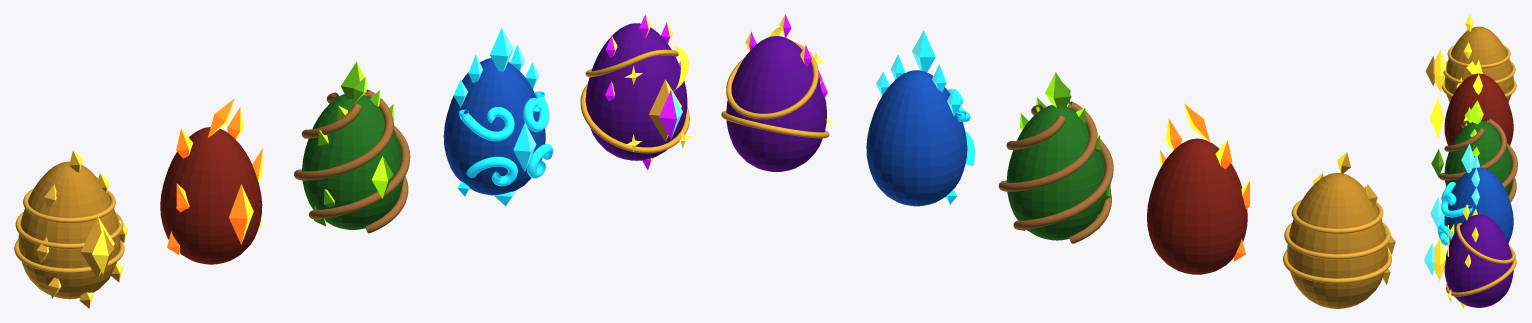
The model's file is Eggs6.fbx.
3 views of the same model, side by side, from view 1: azimuth 30°, elevation 25°; view 2: azimuth 150°, elevation 25°; view 3: azimuth 270°, elevation 25° (orthographic). The views are drawn at different scales.
Visible parts, largest first — view 1: Fire Egg, Arcane Egg, Gold Egg, Forest Egg, Ice Egg, Living spiral vine.001, Living spiral vine, Living spiral vine.002, Arcane lower orbit, Ice curled scroll, Ice curled scroll.001, Fire heart (+13 smaller); view 2: Fire Egg, Ice Egg, Arcane Egg, Gold Egg, Forest Egg, Living spiral vine, Living spiral vine.002, Living spiral vine.001, Arcane upper orbit, Gold encircling band.001, Gold encircling band, Arcane lower orbit (+3 smaller); view 3: Arcane Egg, Fire Egg, Ice Egg, Gold Egg, Forest Egg, Living spiral vine.001, Living spiral vine, Arcane lower orbit, Arcane upper orbit, Ice curled scroll.002, Gold central gemstone setting, Arcane jewel gold setting (+20 smaller).
Part boxes in pixels (x1=…): Fire Egg: x1=160, y1=127, x2=262, y2=264; Arcane Egg: x1=585, y1=23, x2=687, y2=160; Gold Egg: x1=18, y1=161, x2=120, y2=299; Forest Egg: x1=302, y1=94, x2=403, y2=229; Ice Egg: x1=443, y1=58, x2=545, y2=195; Living spiral vine.001: x1=309, y1=92, x2=410, y2=219; Living spiral vine: x1=294, y1=89, x2=393, y2=180; Living spiral vine.002: x1=301, y1=103, x2=408, y2=233; Arcane lower orbit: x1=580, y1=84, x2=689, y2=153; Ice curled scroll: x1=459, y1=107, x2=514, y2=141; Ice curled scroll.001: x1=466, y1=156, x2=517, y2=186; Fire heart: x1=229, y1=184, x2=253, y2=244; Fire Egg: x1=1147, y1=138, x2=1247, y2=274; Ice Egg: x1=866, y1=70, x2=967, y2=206; Arcane Egg: x1=726, y1=36, x2=826, y2=171; Gold Egg: x1=1287, y1=173, x2=1387, y2=308; Forest Egg: x1=1006, y1=105, x2=1106, y2=240; Living spiral vine: x1=1013, y1=104, x2=1113, y2=230; Living spiral vine.002: x1=998, y1=101, x2=1097, y2=191; Living spiral vine.001: x1=1006, y1=115, x2=1111, y2=243; Arcane upper orbit: x1=726, y1=41, x2=818, y2=119; Gold encircling band.001: x1=1284, y1=223, x2=1390, y2=259; Gold encircling band: x1=1283, y1=250, x2=1391, y2=283; Arcane lower orbit: x1=721, y1=110, x2=829, y2=138; Arcane Egg: x1=1444, y1=214, x2=1513, y2=307; Fire Egg: x1=1444, y1=73, x2=1513, y2=145; Ice Egg: x1=1444, y1=167, x2=1513, y2=242; Gold Egg: x1=1444, y1=26, x2=1513, y2=101; Forest Egg: x1=1444, y1=120, x2=1513, y2=195; Living spiral vine.001: x1=1439, y1=118, x2=1506, y2=180; Living spiral vine: x1=1444, y1=128, x2=1516, y2=202; Arcane lower orbit: x1=1446, y1=258, x2=1516, y2=296; Arcane upper orbit: x1=1456, y1=223, x2=1515, y2=263; Ice curled scroll.002: x1=1441, y1=193, x2=1472, y2=217; Gold central gemstone setting: x1=1434, y1=50, x2=1446, y2=91; Arcane jewel gold setting: x1=1434, y1=238, x2=1445, y2=280.
Size of the model in its own units: 1590 by 404 by 287.
